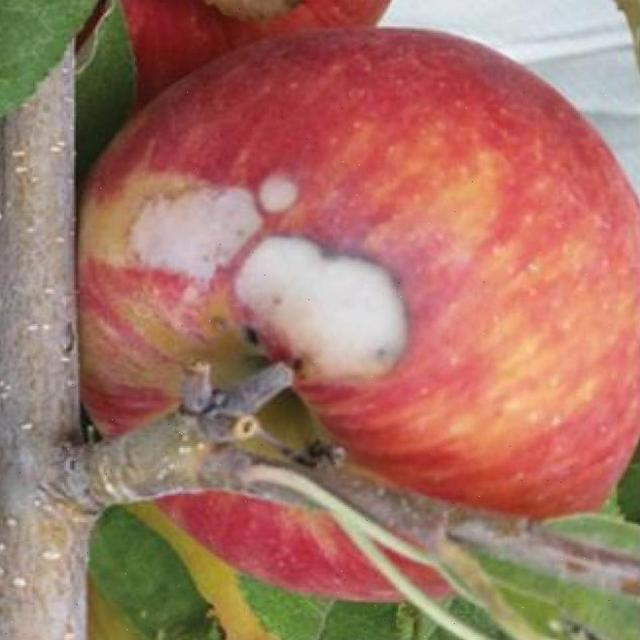Sunscald Fruit: (76, 95, 278, 273)
